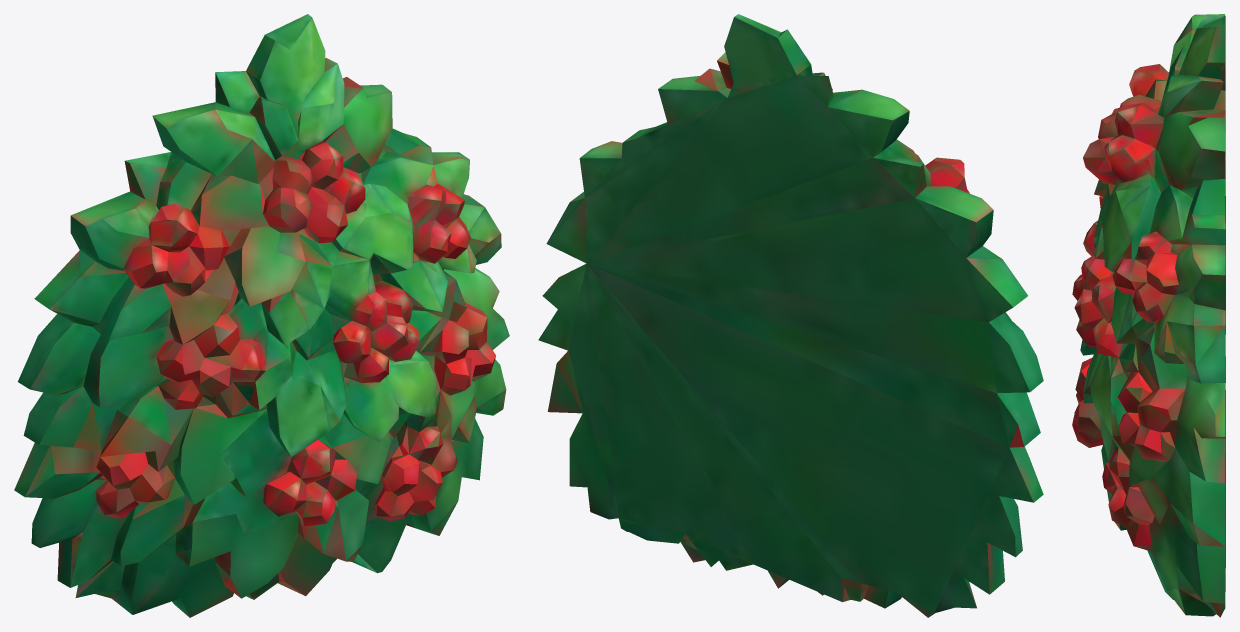
The model's file is berry-bush.glb.
3 renders of one model, left to right at view 1: azimuth 30°, elevation 25°; view 2: azimuth 150°, elevation 25°; view 3: azimuth 270°, elevation 25°, orthographic. The views are drawn at different scales.
Parts seen in each view (by area): view 1: output_unwrapped; view 2: output_unwrapped; view 3: output_unwrapped.
Part boxes in pixels (<box>): output_unwrapped: <box>14,14,509,617</box>; output_unwrapped: <box>538,14,1043,617</box>; output_unwrapped: <box>1072,14,1225,617</box>.
Size of the model in its own units: 1.75 by 1.9 by 0.4789.
1 material, 1 textured.
